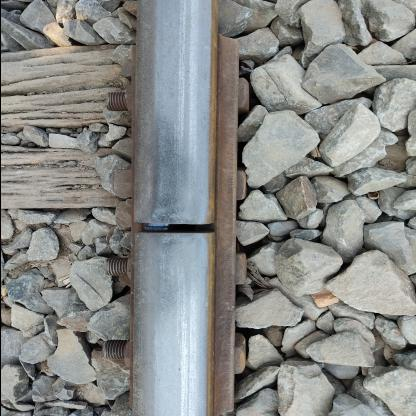Non Defective: (101, 69, 233, 387)
